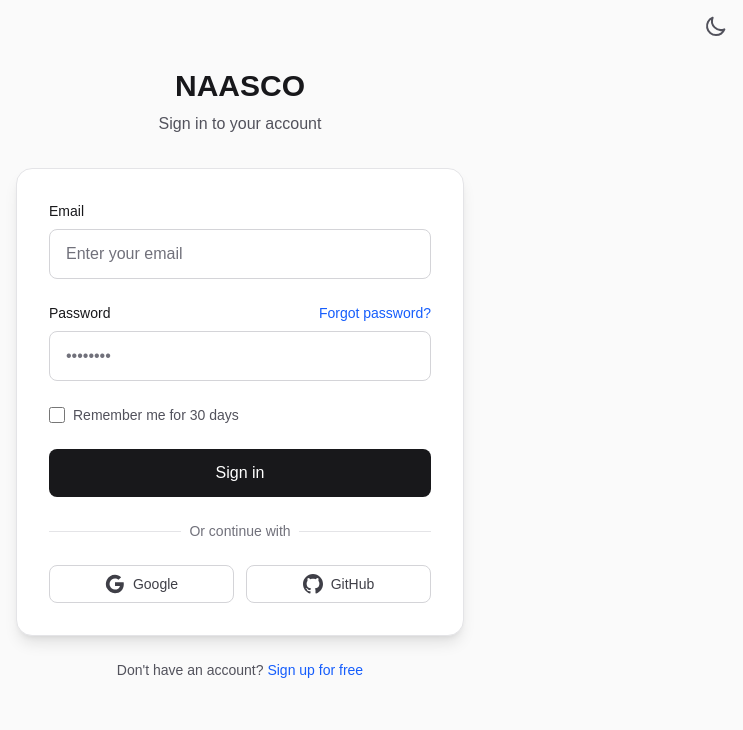
Test case: LoginForm › Form Submission - Failure › displays generic error message when error is not provided
Type "test@example.com" into the field labelled "Email" at [240, 254], box [49,229,431,279]
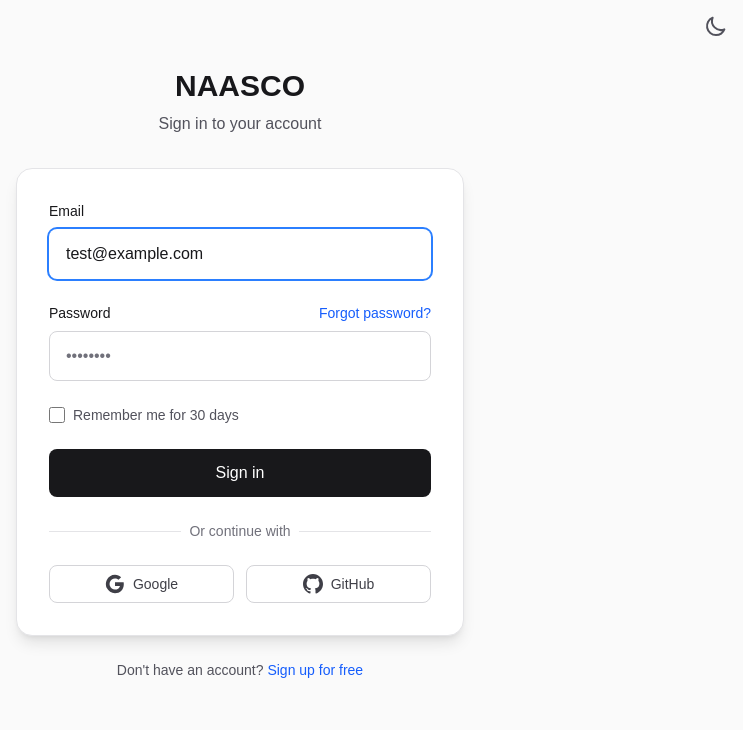
Type "password123" into the password field labelled "Password" at [240, 356], box [49,331,431,381]
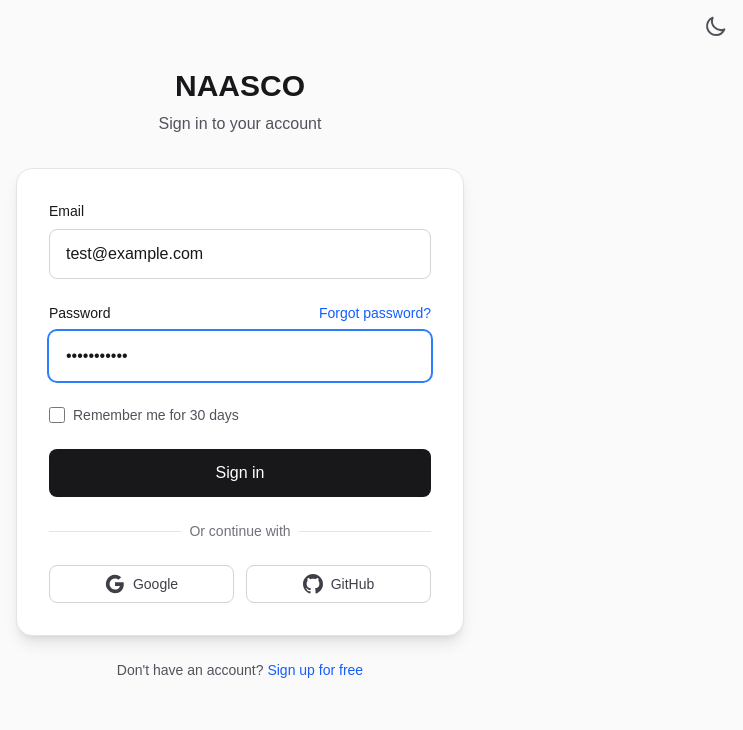
Click the button "Sign in" at [240, 473], box [49,449,431,497]
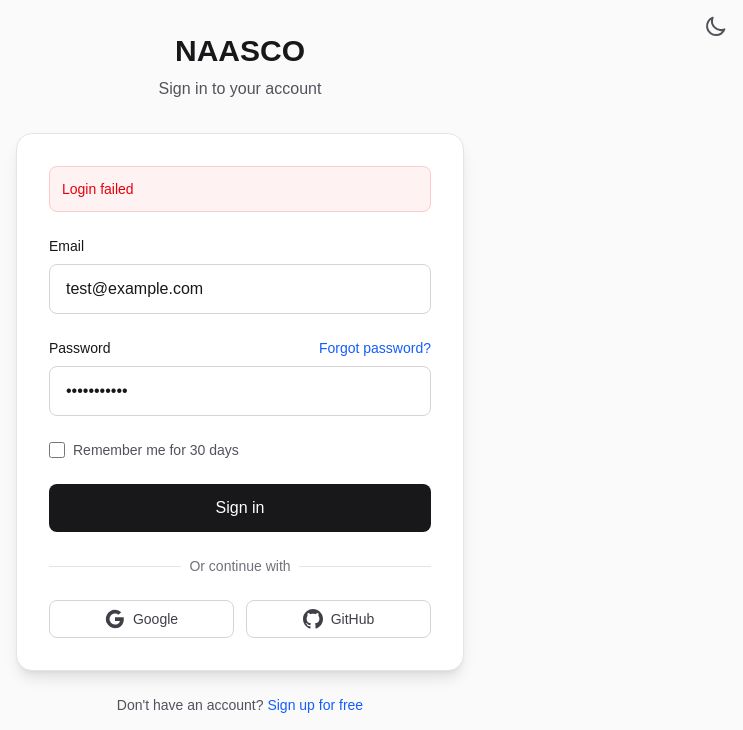
Expected: the text "Login failed" is shown, [62,181,134,197]
